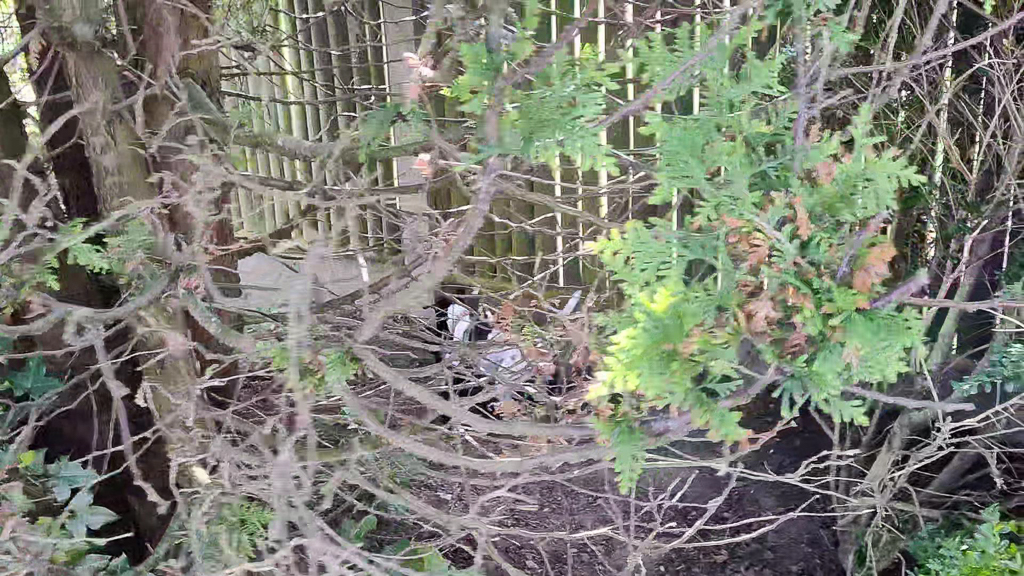Dog: (415, 279, 591, 403)
